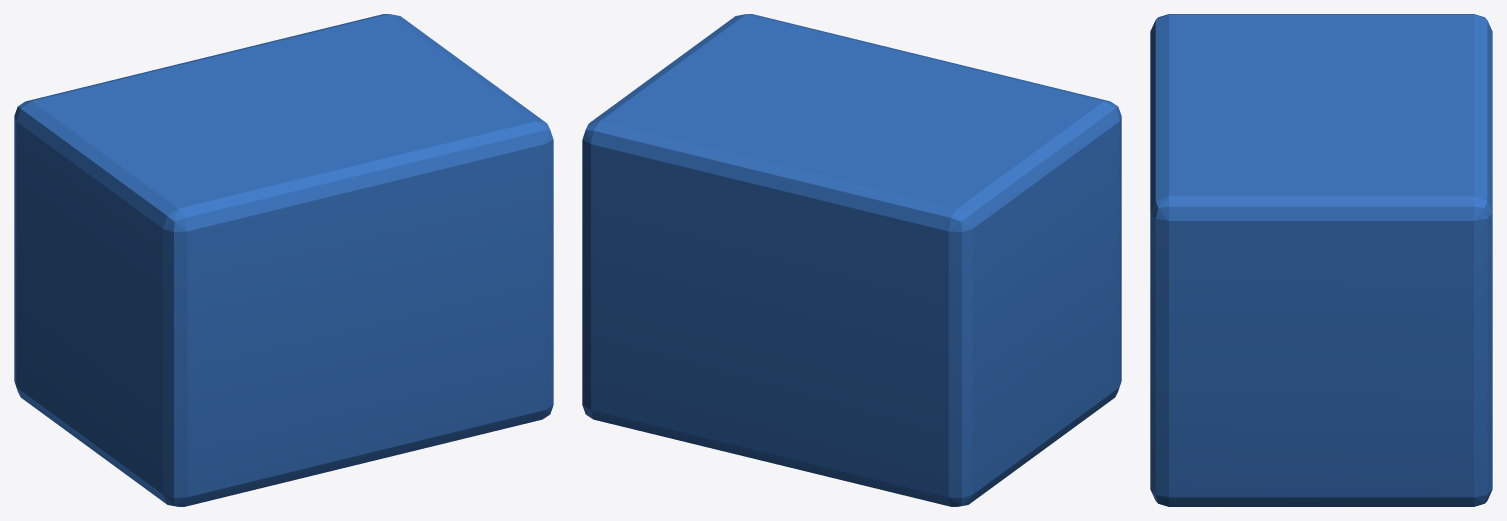
File: tee_marker_block_blue.glb
3 views of the same model, side by side, from view 1: azimuth 30°, elevation 25°; view 2: azimuth 150°, elevation 25°; view 3: azimuth 270°, elevation 25° (orthographic). The views are drawn at different scales.
Parts seen in each view (by area): view 1: Body; view 2: Body; view 3: Body.
Boxes of the visible parts, left/top/right/bottom form: Body: left=14, top=14, right=553, bottom=506; Body: left=582, top=14, right=1121, bottom=506; Body: left=1150, top=14, right=1492, bottom=506.
Bounding box in the file's own units: 0.3 × 0.22 × 0.22.
Materials: 1 (1 with a texture image).
